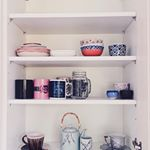cups: (46, 78, 74, 101)
